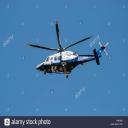helicopter: (28, 21, 110, 80)
